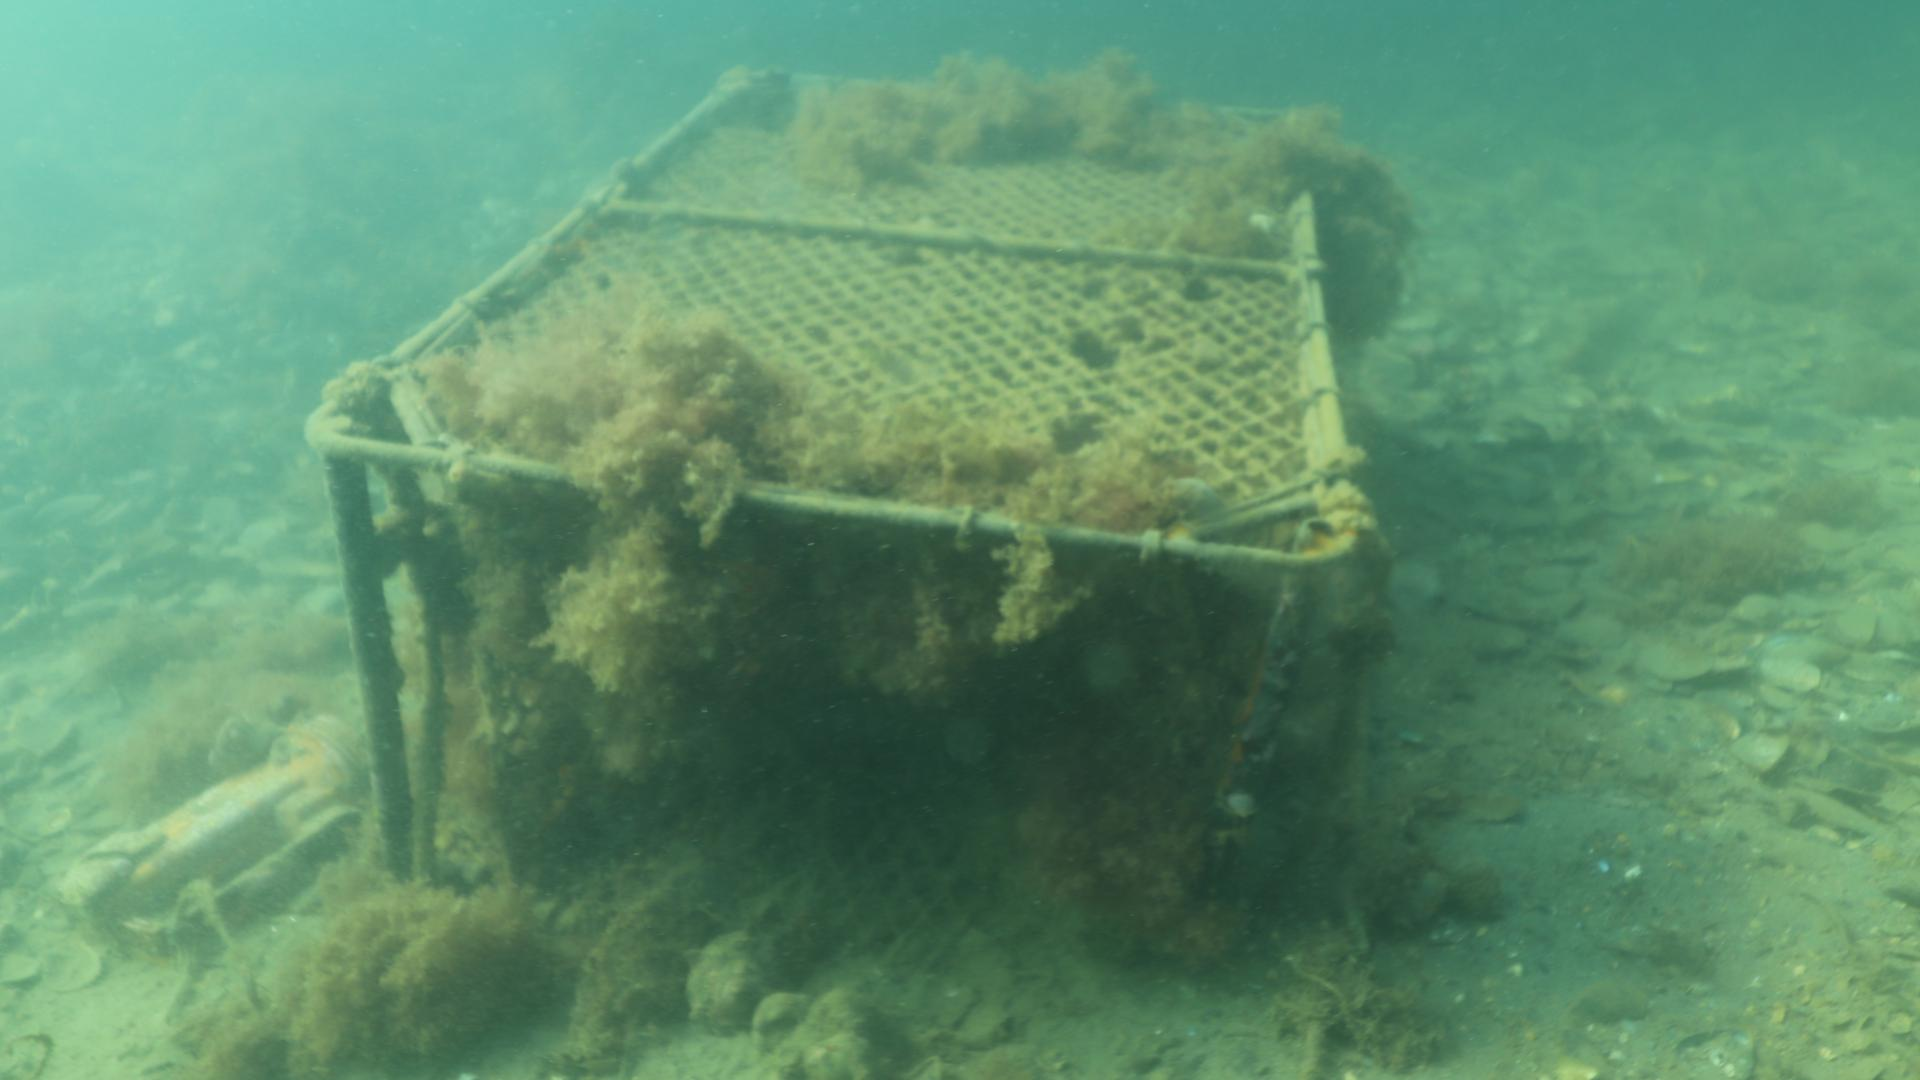rectangular fish trap: (303, 61, 1367, 886)
